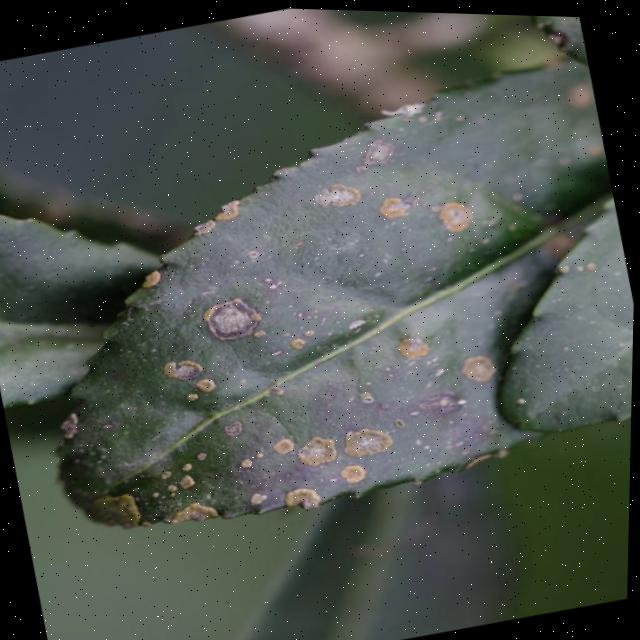Tea algae leaf spot: (0, 68, 543, 576)
